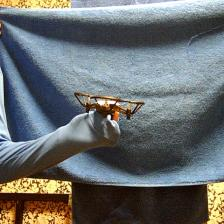drone: (75, 92, 145, 121)
